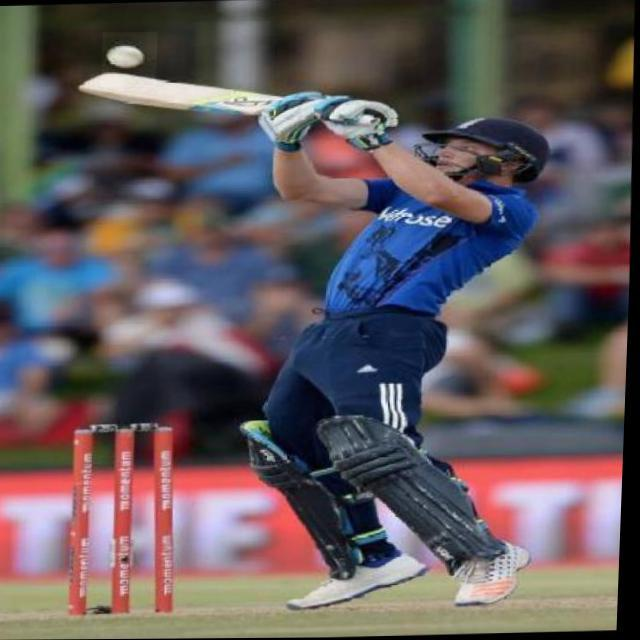-: (101, 32, 158, 87)
